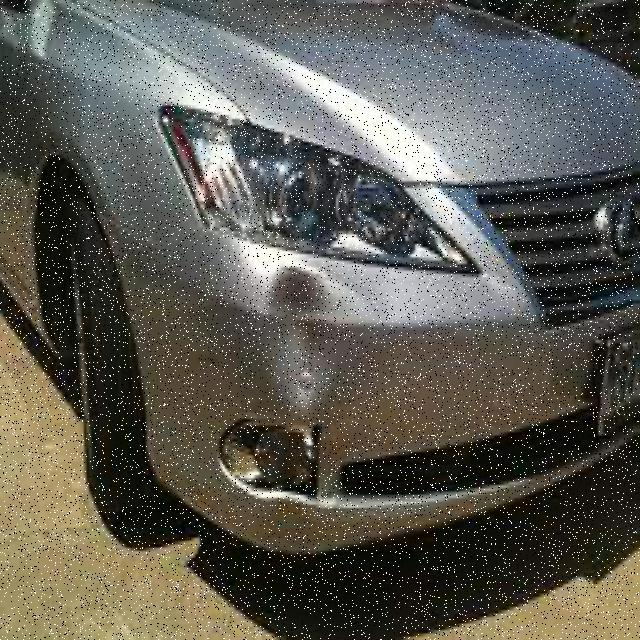front-bumper-dent: (94, 241, 596, 541)
